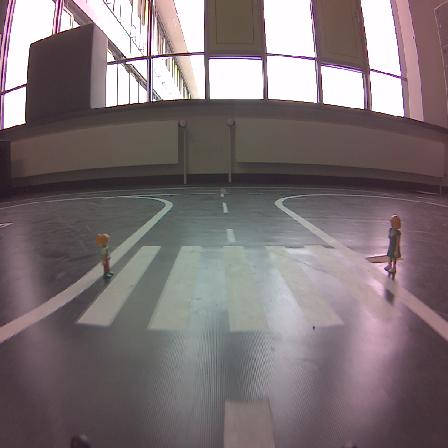CHILD: (97, 234, 113, 278)
PERSON: (384, 215, 400, 273)
